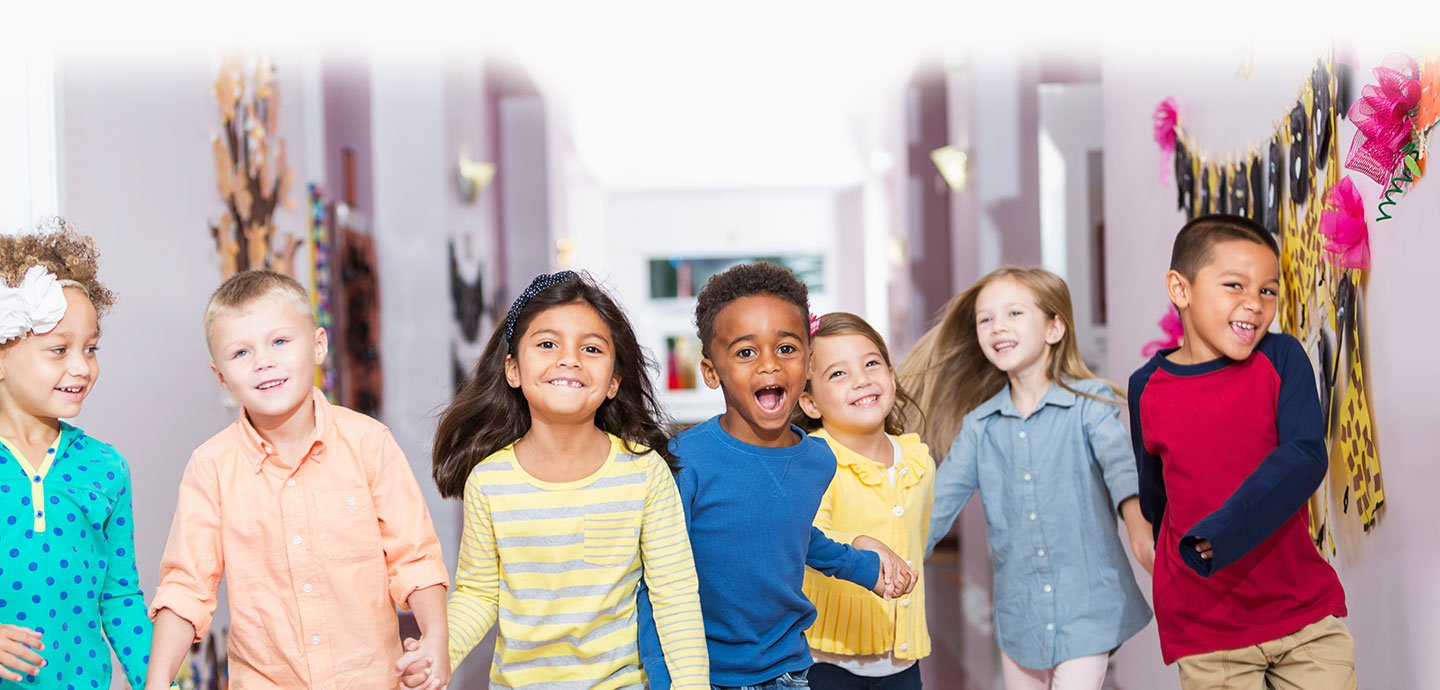human: (145, 261, 456, 690), (400, 261, 711, 690), (1107, 219, 1350, 690), (632, 259, 885, 690), (922, 260, 1148, 690), (1, 210, 182, 690), (796, 301, 951, 690)
